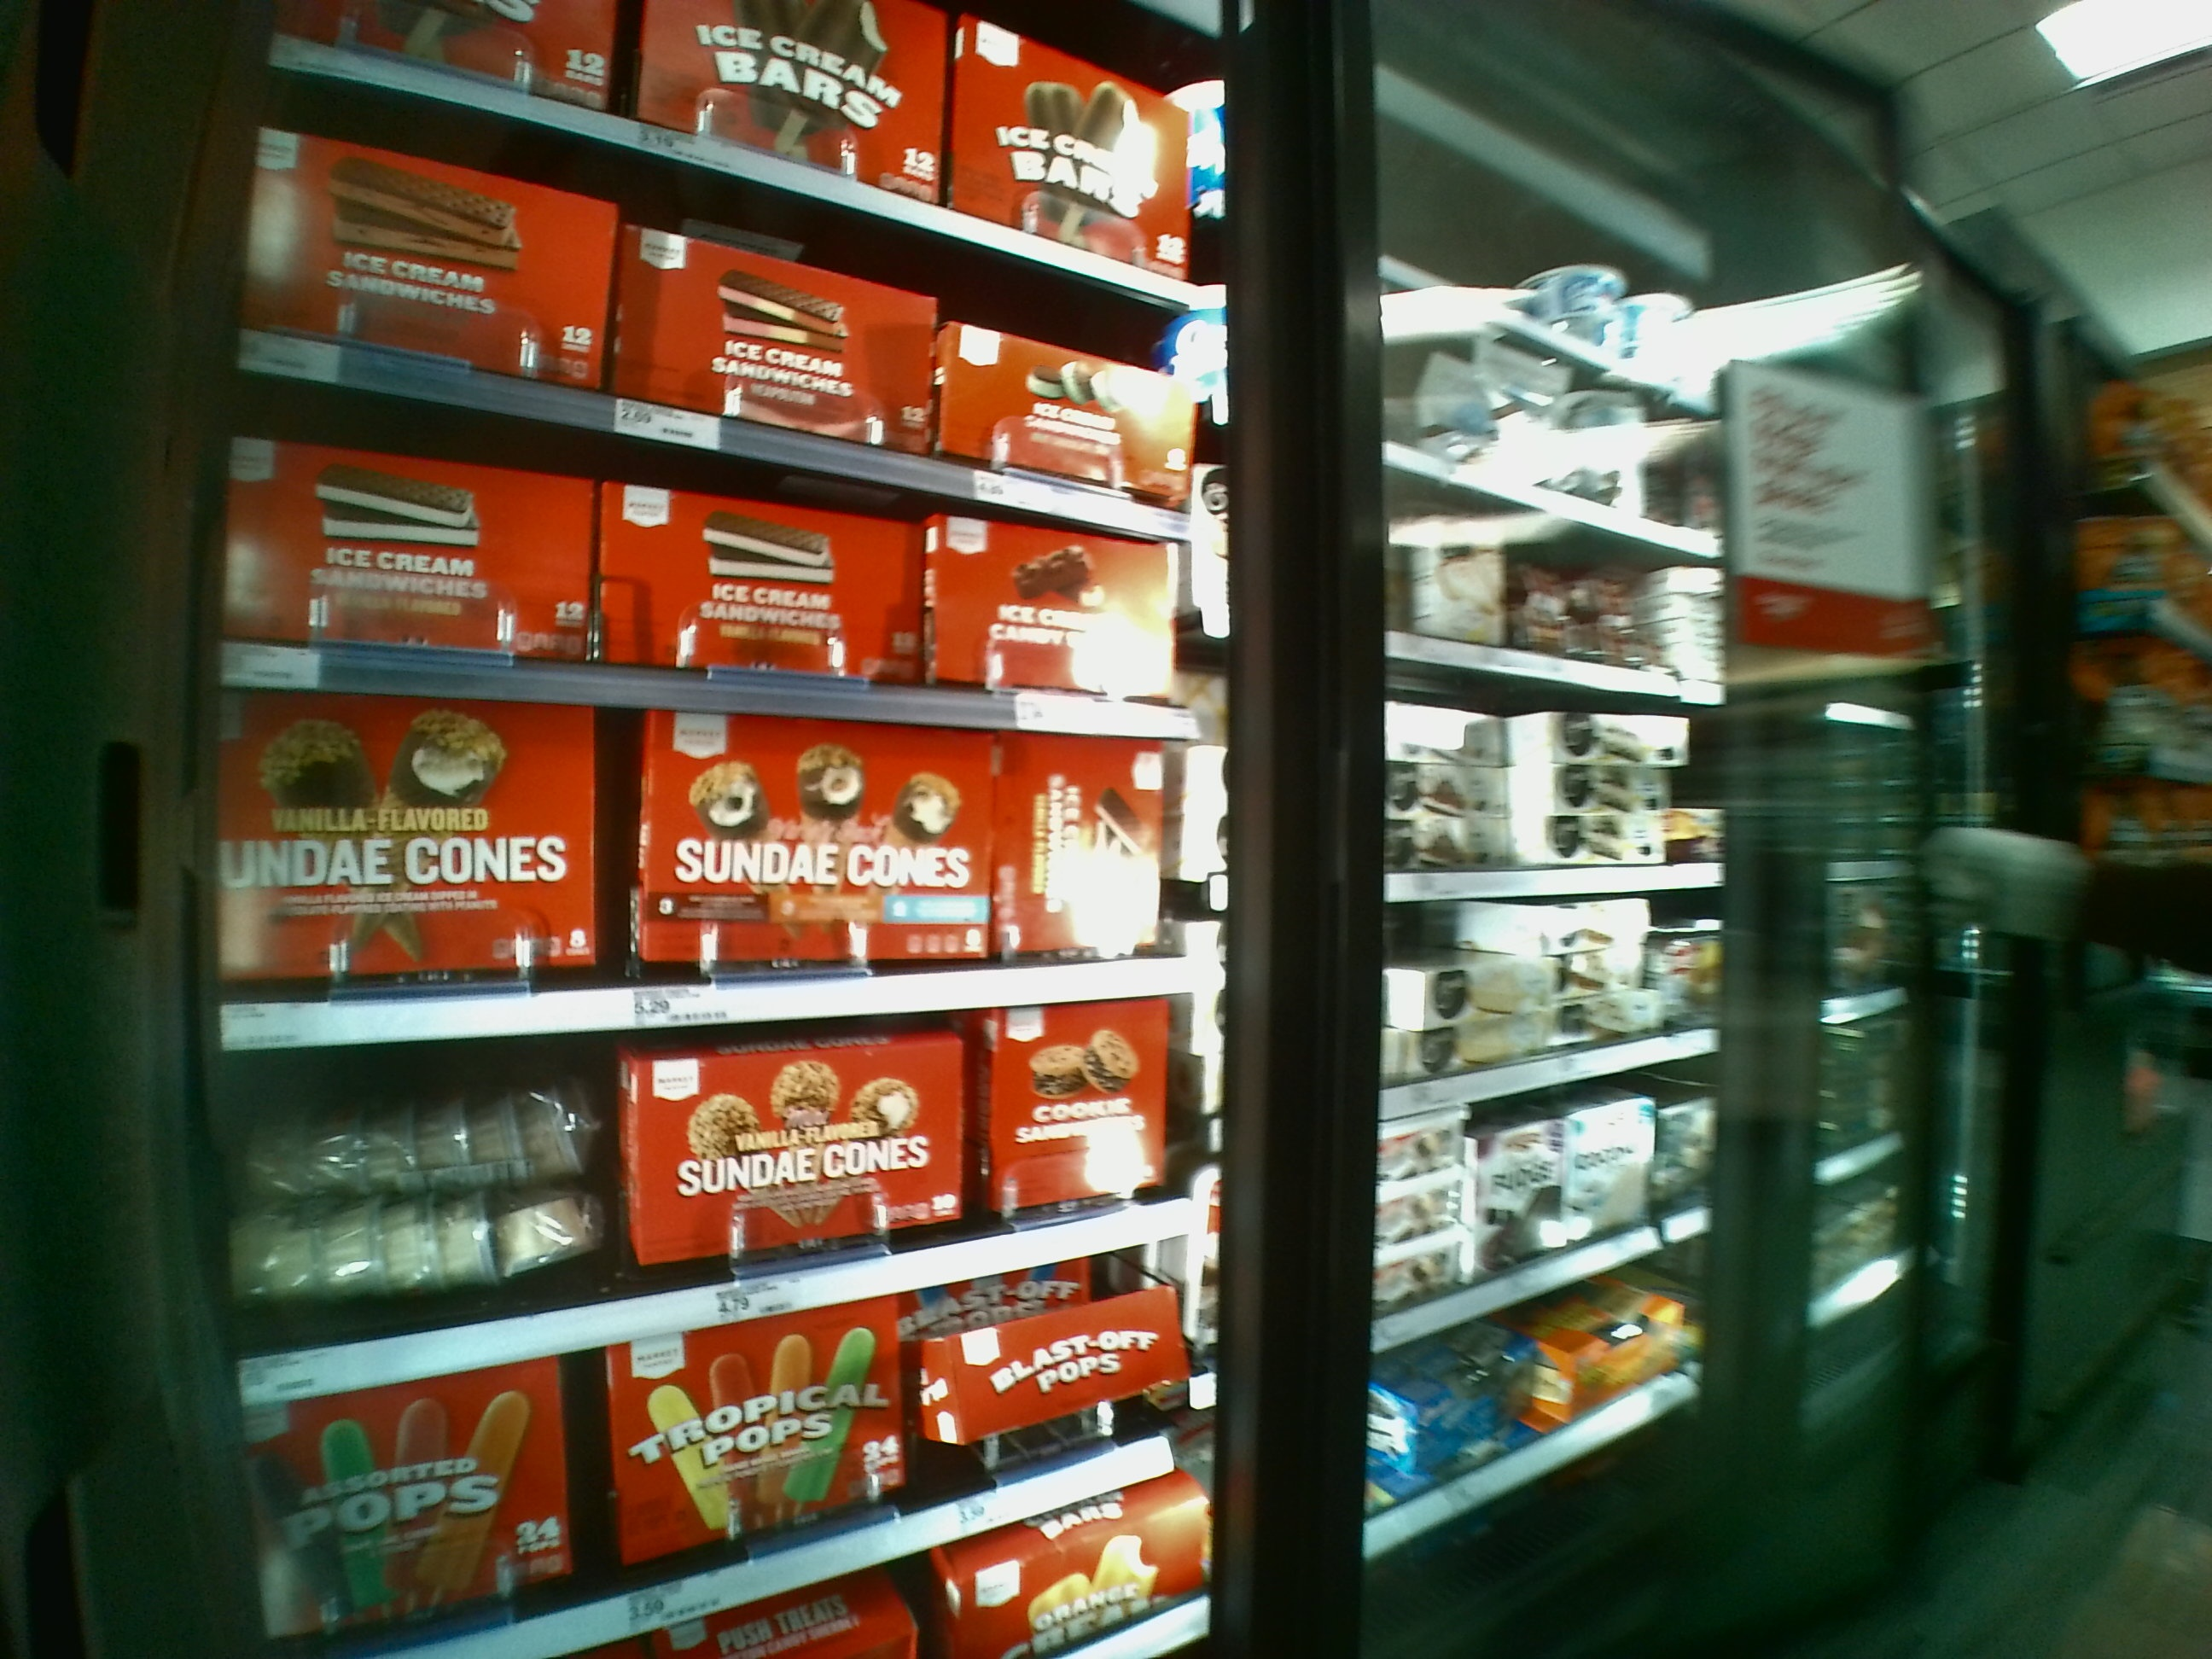shelf: (209, 704, 1209, 1011), (233, 1011, 1211, 1324), (221, 469, 1224, 723)
